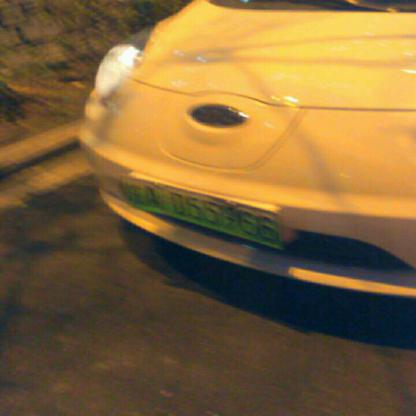lp: (121, 176, 282, 249)
